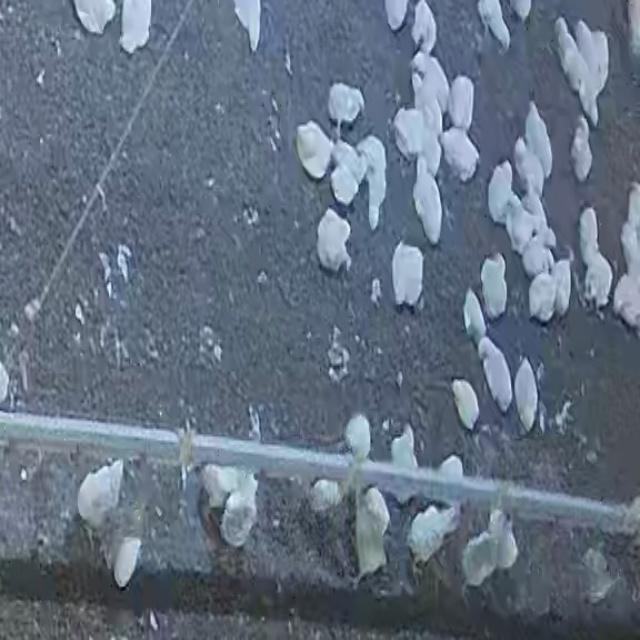chicken: (354, 486, 390, 578), (75, 460, 122, 530), (408, 502, 458, 564), (357, 136, 387, 231), (220, 482, 260, 550), (411, 161, 443, 245), (414, 56, 450, 130), (201, 465, 255, 513), (479, 338, 513, 414), (315, 208, 354, 274), (385, 426, 419, 501), (524, 100, 554, 180), (391, 240, 425, 308), (461, 530, 501, 587), (296, 121, 335, 179), (113, 514, 142, 589), (440, 127, 480, 181), (393, 107, 427, 165), (342, 412, 372, 476), (581, 244, 610, 310), (504, 191, 534, 254), (479, 254, 508, 317), (118, 1, 154, 51), (326, 81, 365, 127), (330, 152, 362, 207), (436, 454, 464, 516), (514, 360, 538, 432), (487, 162, 514, 224), (528, 269, 559, 322), (520, 232, 554, 280), (313, 452, 341, 510), (417, 118, 442, 182), (570, 116, 594, 182), (450, 378, 480, 430), (493, 513, 519, 572), (525, 180, 549, 243), (409, 0, 437, 54), (447, 75, 475, 128), (589, 28, 615, 85), (477, 0, 510, 44), (578, 60, 600, 124), (619, 218, 640, 283), (552, 17, 575, 76), (575, 13, 595, 77), (579, 203, 599, 264), (463, 286, 485, 340), (553, 258, 573, 316)
